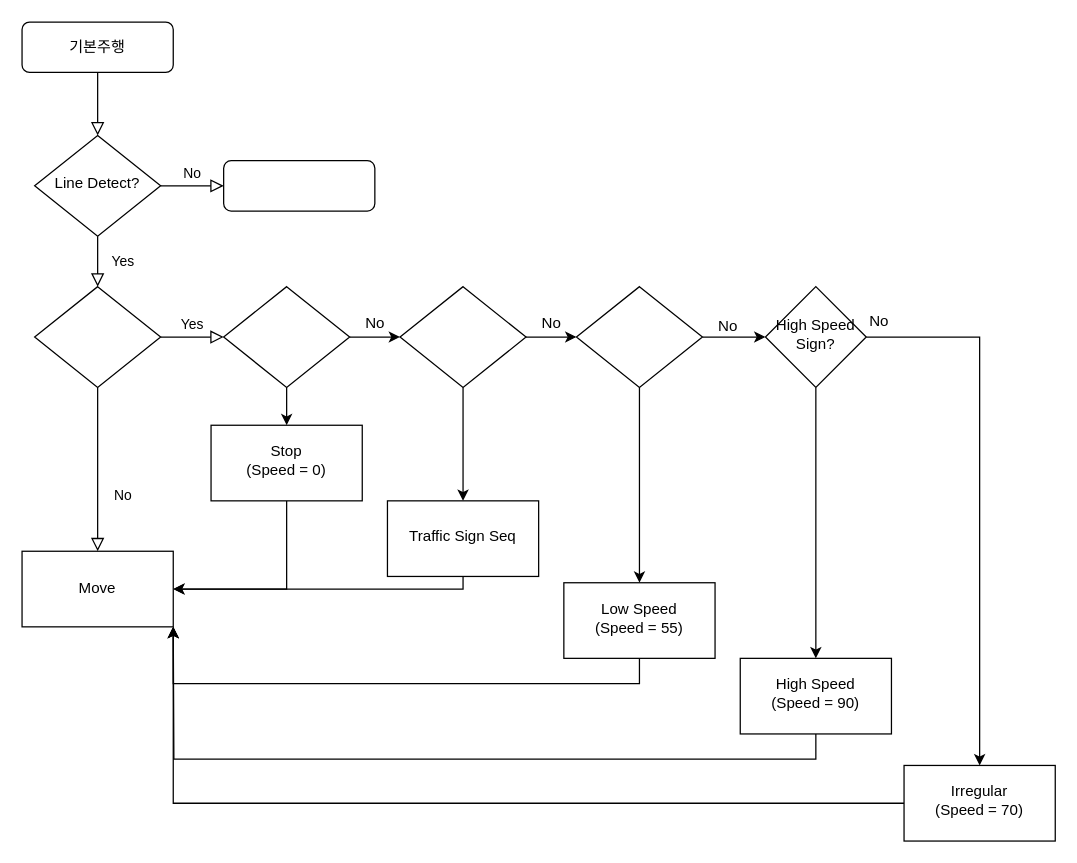
Image size: 1077x863. Some labels were removed from this diagram. The shapes that lost their labels are listed below. From the top down, each one's centre as x and y in pixels, then its label:
At point 298,185: "Error".
At point 97,336: "Sign Object Detect?".
At point 286,336: "Stop Sign?".
At point 462,336: "Traffic Sign?".
At point 638,336: "Low Speed Sign?".
